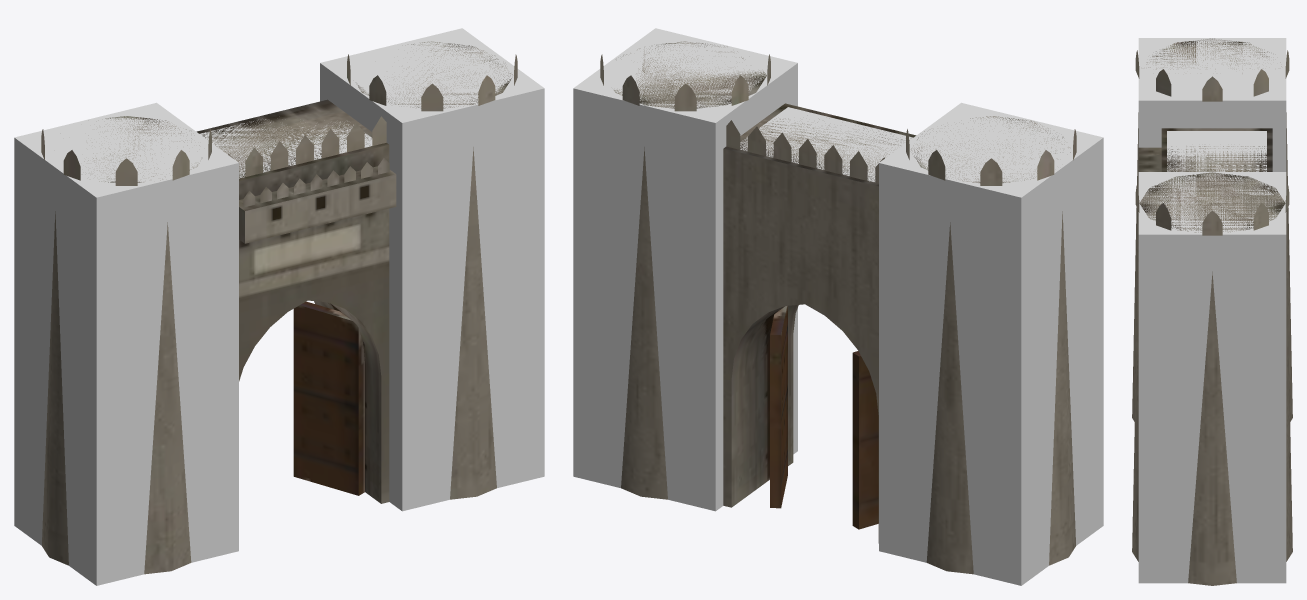
File: golconda_fort_gate.glb
3 renders of one model, left to right at view 1: azimuth 30°, elevation 25°; view 2: azimuth 150°, elevation 25°; view 3: azimuth 270°, elevation 25°, orthographic. The views are drawn at different scales.
Visible parts, largest first — view 1: COL_gate_bastion0, golconda_fort_gate_body, COL_gate_bastion1, COL_gate_top; view 2: COL_gate_bastion0, golconda_fort_gate_body, COL_gate_bastion1, COL_gate_top; view 3: COL_gate_bastion1, golconda_fort_gate_body, COL_gate_bastion0, COL_gate_top.
Part boxes in pixels (x1=…): COL_gate_bastion0: x1=14, y1=102, x2=238, y2=585; golconda_fort_gate_body: x1=41, y1=41, x2=517, y2=574; COL_gate_bastion1: x1=320, y1=28, x2=544, y2=511; COL_gate_top: x1=200, y1=119, x2=372, y2=178; COL_gate_bastion0: x1=879, y1=102, x2=1103, y2=585; golconda_fort_gate_body: x1=600, y1=41, x2=1076, y2=574; COL_gate_bastion1: x1=573, y1=28, x2=797, y2=511; COL_gate_top: x1=740, y1=107, x2=912, y2=181; COL_gate_bastion1: x1=1138, y1=172, x2=1286, y2=583; golconda_fort_gate_body: x1=1132, y1=38, x2=1292, y2=585; COL_gate_bastion0: x1=1138, y1=38, x2=1286, y2=171; COL_gate_top: x1=1167, y1=131, x2=1266, y2=171.
Size of the model in its own units: 62.1 by 53.6 by 20.9.
Materials: 1 (1 with a texture image).
